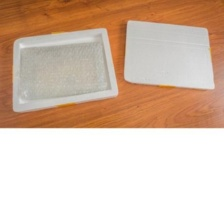foam_box: (5, 23, 122, 116), (119, 17, 217, 93)
